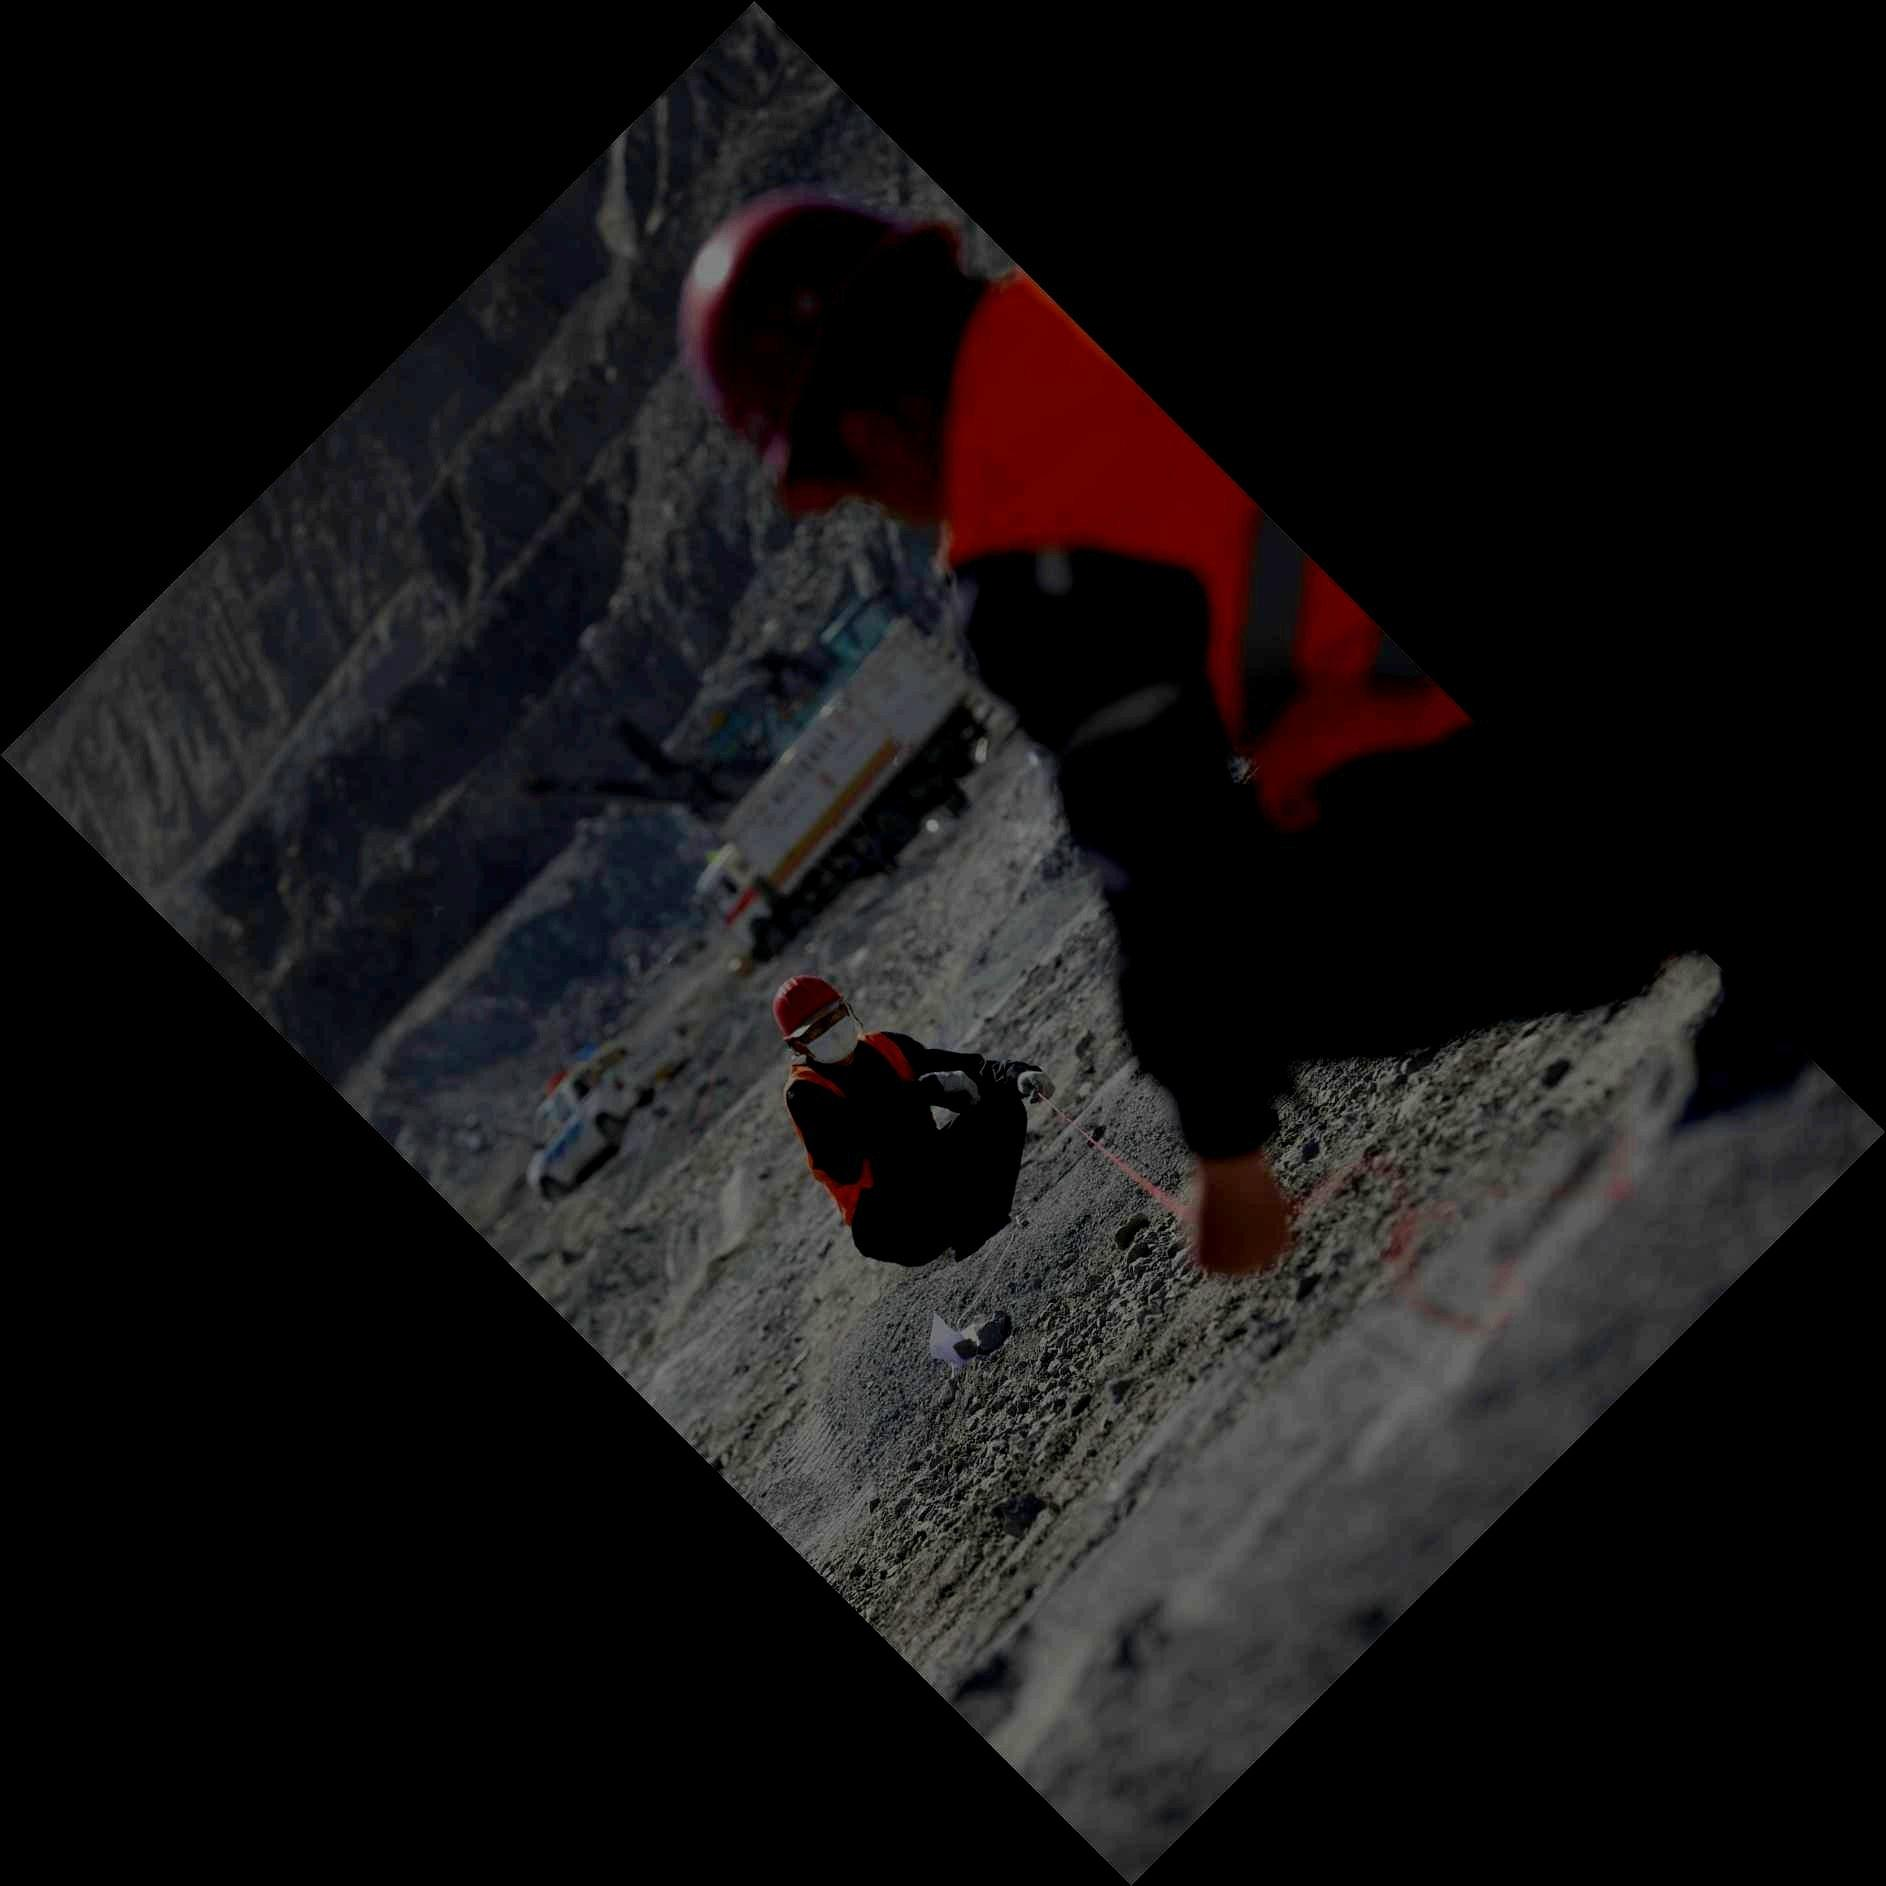helmet: (675, 187, 984, 527), (772, 972, 858, 1066)
